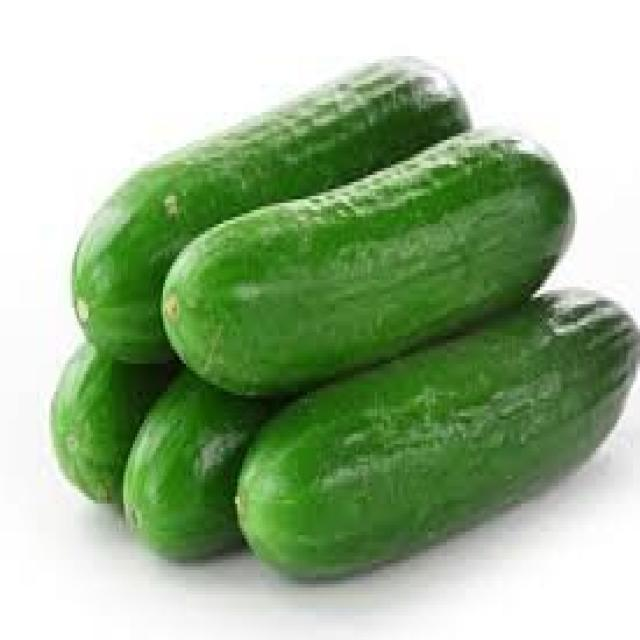cucumber: (47, 57, 640, 584)
